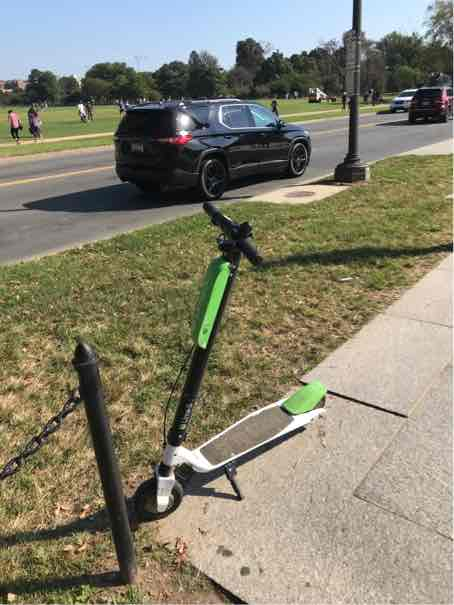scooter: (138, 192, 344, 521)
